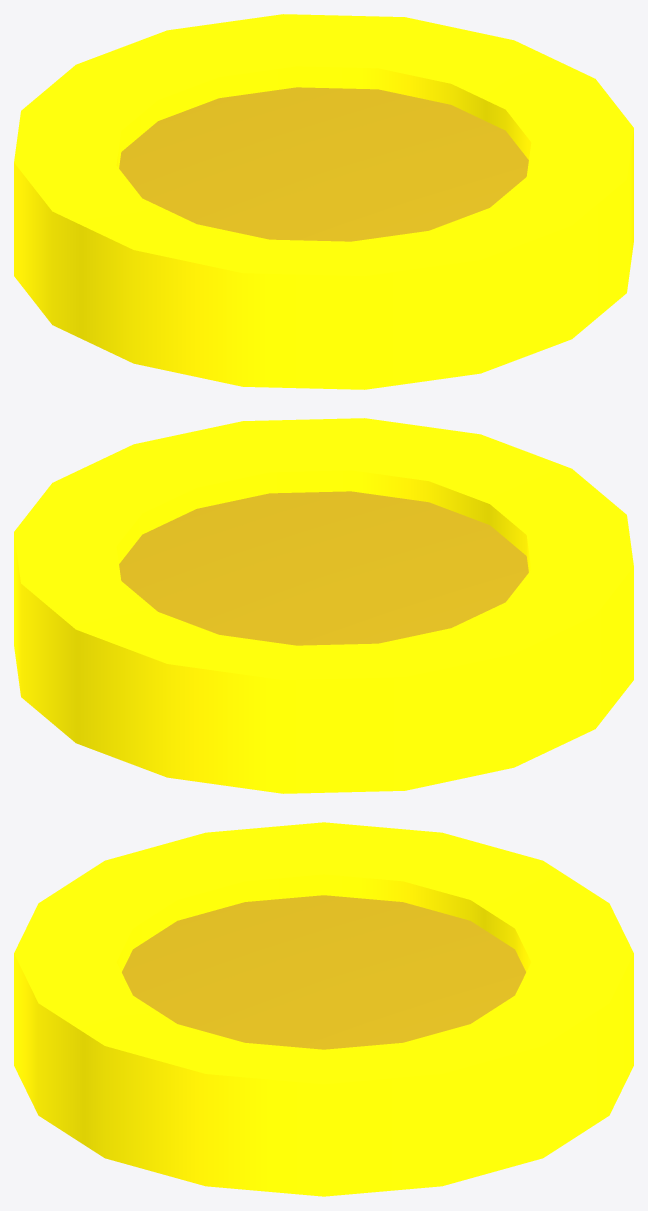
Rendered from Coin_01.fbx.
3 renders of one model, top to bottom at view 1: azimuth 30°, elevation 25°; view 2: azimuth 150°, elevation 25°; view 3: azimuth 270°, elevation 25°, orthographic.
Parts seen in each view (by area): view 1: Coin_01; view 2: Coin_01; view 3: Coin_01.
Boxes of the visible parts, x1,y1,x2,y2 form: Coin_01: (14,14,633,389); Coin_01: (14,418,633,793); Coin_01: (14,822,633,1196).
Size of the model in its own units: 6.38 by 1.27 by 6.38.
